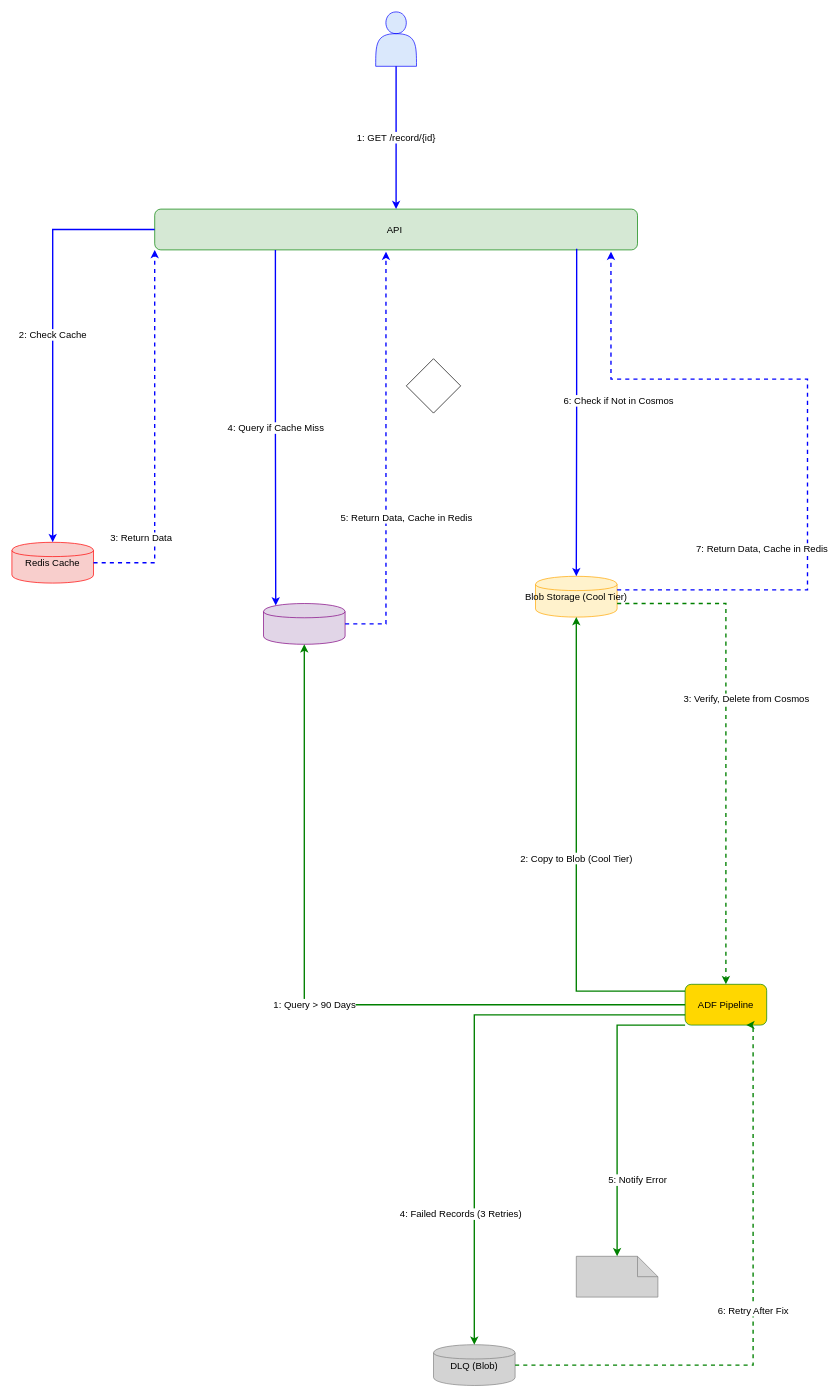
The diagram is 840 pixels wide and 1397 high, and some of its shapes have lost their labels. Each missing label, with the centre of its shape:
"Client" belongs at [396,38].
"Cosmos DB" belongs at [304,623].
"Notification" belongs at [617,1276].
